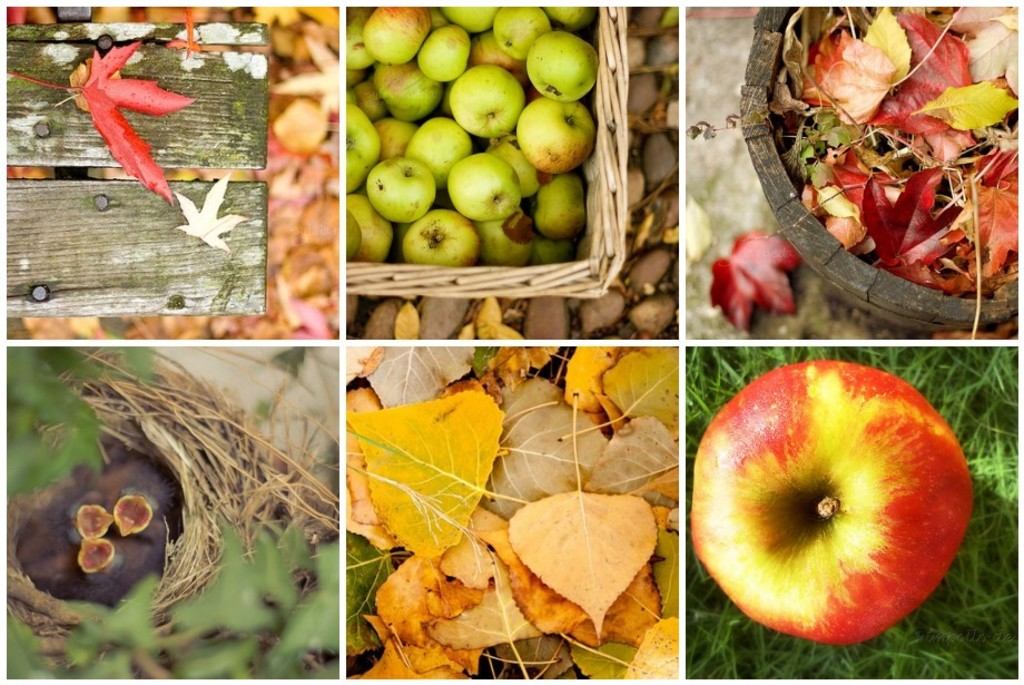Apple: (688, 357, 973, 647)
